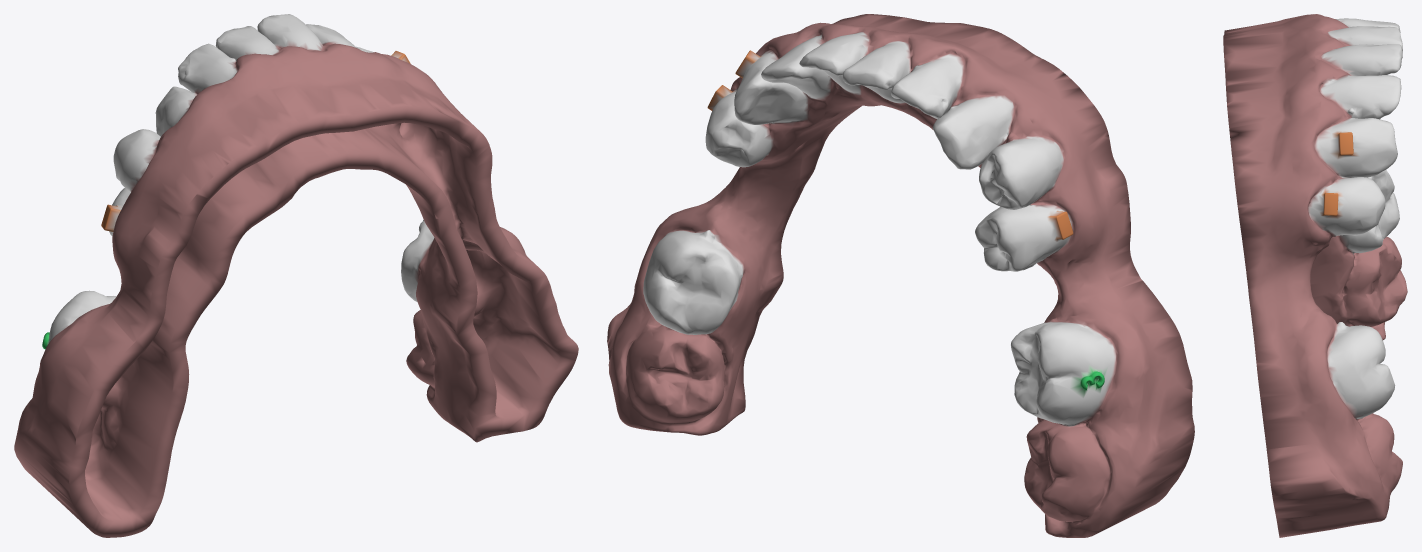
The model's file is lower-model-3.glb.
3 views of the same model, side by side, from view 1: azimuth 30°, elevation 25°; view 2: azimuth 150°, elevation 25°; view 3: azimuth 270°, elevation 25° (orthographic). The views are drawn at different scales.
Parts seen in each view (by area): view 1: 3 (1); view 2: 3 (1); view 3: 3 (1).
Part boxes in pixels (<box>): 3 (1): <box>14,14,578,537</box>; 3 (1): <box>607,14,1194,537</box>; 3 (1): <box>1223,14,1407,537</box>.
Bounding box in the file's own units: 64.22 × 50.01 × 20.71.
